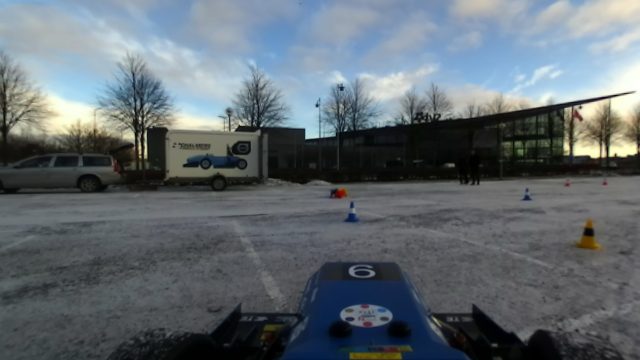blue: (344, 201, 358, 224), (519, 187, 533, 201)
yellow: (571, 218, 601, 251)
